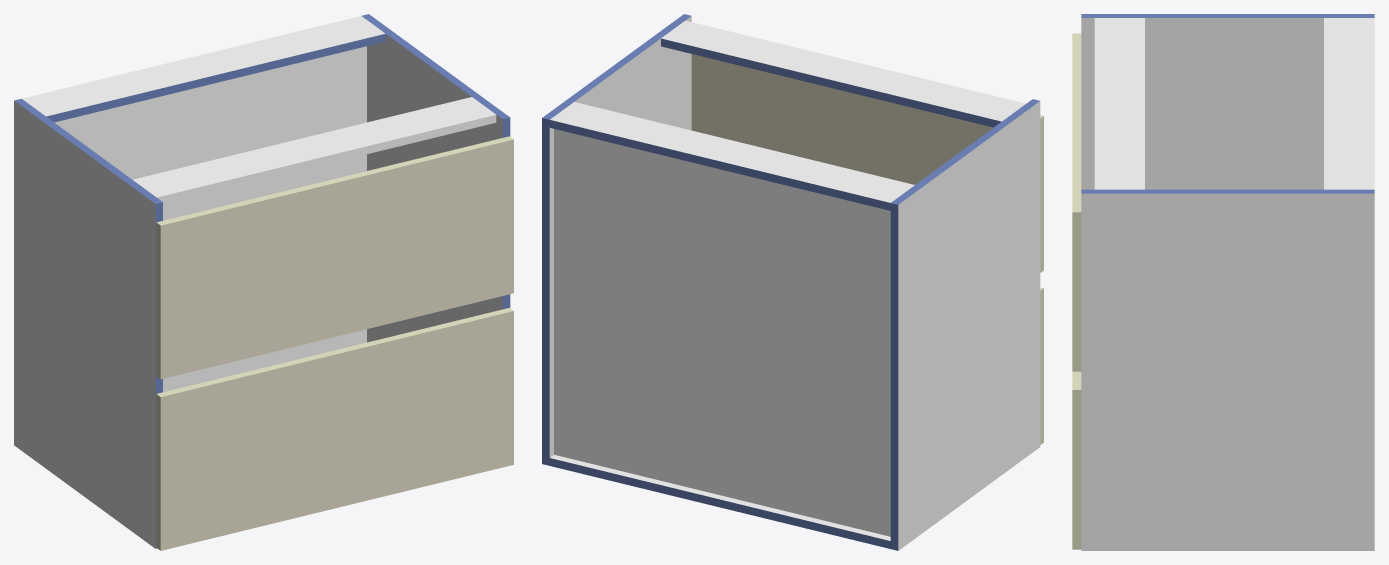
Rendered from kitchen.glb.
3 renders of one model, left to right at view 1: azimuth 30°, elevation 25°; view 2: azimuth 150°, elevation 25°; view 3: azimuth 270°, elevation 25°, orthographic. The views are drawn at different scales.
Parts seen in each view (by area): view 1: Geom3D_UNI_BASE_DRW#9, Geom3D_UNI_BASE_DRW#8, Geom3D_UNI_BASE_SideL, Geom3D_UNI_BASE_Back, Geom3D (×5), Geom3D_UNI_BASE_TopF, Geom3D_UNI_BASE_SideR, Geom3D_UNI_BASE_TopB; view 2: Geom3D_UNI_BASE_Back, Geom3D_UNI_BASE_SideL, Geom3D_UNI_BASE_DRW#8, Geom3D (×7), Geom3D_UNI_BASE_TopF, Geom3D_UNI_BASE_TopB, Geom3D_UNI_BASE_SideR, Geom3D_UNI_BASE_Bottom; view 3: Geom3D_UNI_BASE_SideR, Geom3D_UNI_BASE_SideL, Geom3D_UNI_BASE_TopF, Geom3D_UNI_BASE_TopB, Geom3D (×4).
Boxes of the visible parts, <box> form: Geom3D_UNI_BASE_DRW#9: <box>160,311,513,550</box>; Geom3D_UNI_BASE_DRW#8: <box>160,139,513,379</box>; Geom3D_UNI_BASE_SideL: <box>14,101,155,548</box>; Geom3D_UNI_BASE_Back: <box>54,46,366,392</box>; Geom3D (×5): <box>14,14,513,550</box>; Geom3D_UNI_BASE_TopF: <box>133,97,496,203</box>; Geom3D_UNI_BASE_SideR: <box>367,34,502,342</box>; Geom3D_UNI_BASE_TopB: <box>22,16,384,116</box>; Geom3D_UNI_BASE_Back: <box>554,129,890,536</box>; Geom3D_UNI_BASE_SideL: <box>898,101,1040,550</box>; Geom3D_UNI_BASE_DRW#8: <box>691,54,992,184</box>; Geom3D (×7): <box>542,14,1043,550</box>; Geom3D_UNI_BASE_TopF: <box>661,20,1025,121</box>; Geom3D_UNI_BASE_TopB: <box>550,102,914,202</box>; Geom3D_UNI_BASE_SideR: <box>549,16,691,457</box>; Geom3D_UNI_BASE_Bottom: <box>550,454,890,540</box>; Geom3D_UNI_BASE_SideR: <box>1081,193,1374,550</box>; Geom3D_UNI_BASE_SideL: <box>1081,18,1323,189</box>; Geom3D_UNI_BASE_TopF: <box>1094,18,1144,189</box>; Geom3D_UNI_BASE_TopB: <box>1324,18,1374,189</box>; Geom3D (×4): <box>1072,14,1374,549</box>.
Size of the model in its own units: 0.84 by 0.78 by 0.598.
